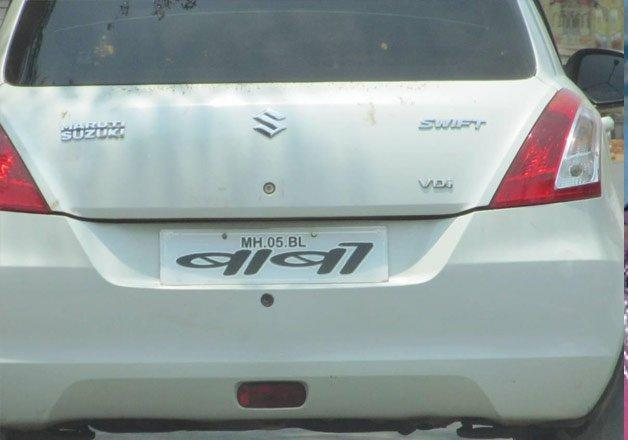licence-plate: (161, 229, 387, 281)
